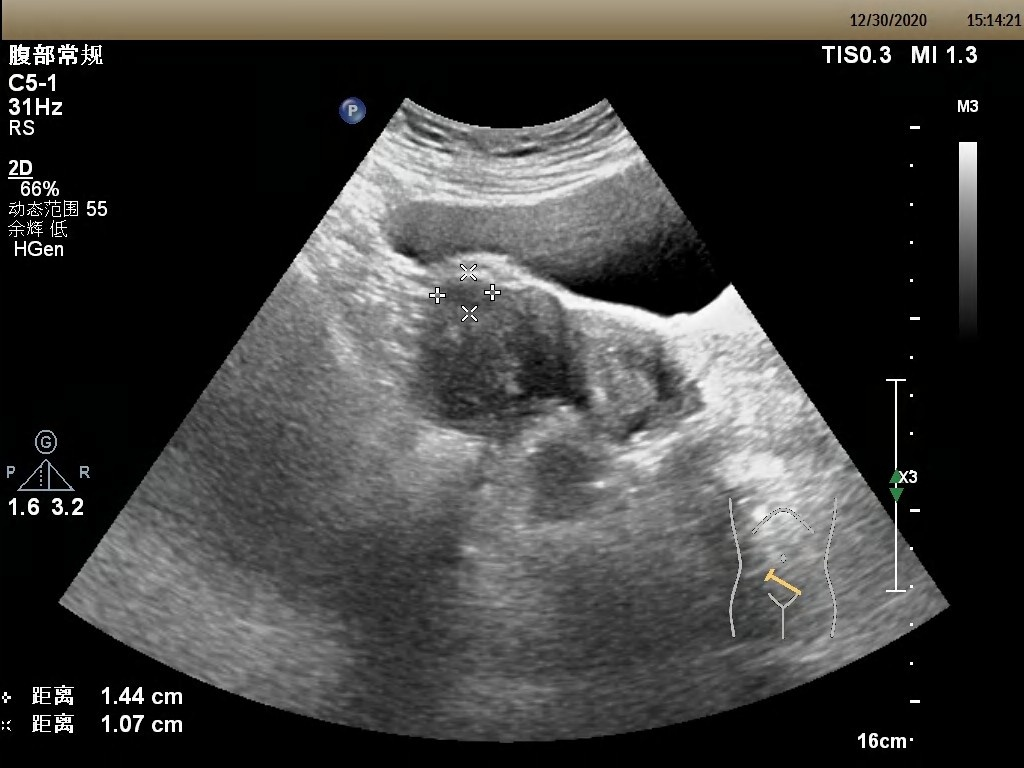肌瘤: (436, 271, 497, 308)
